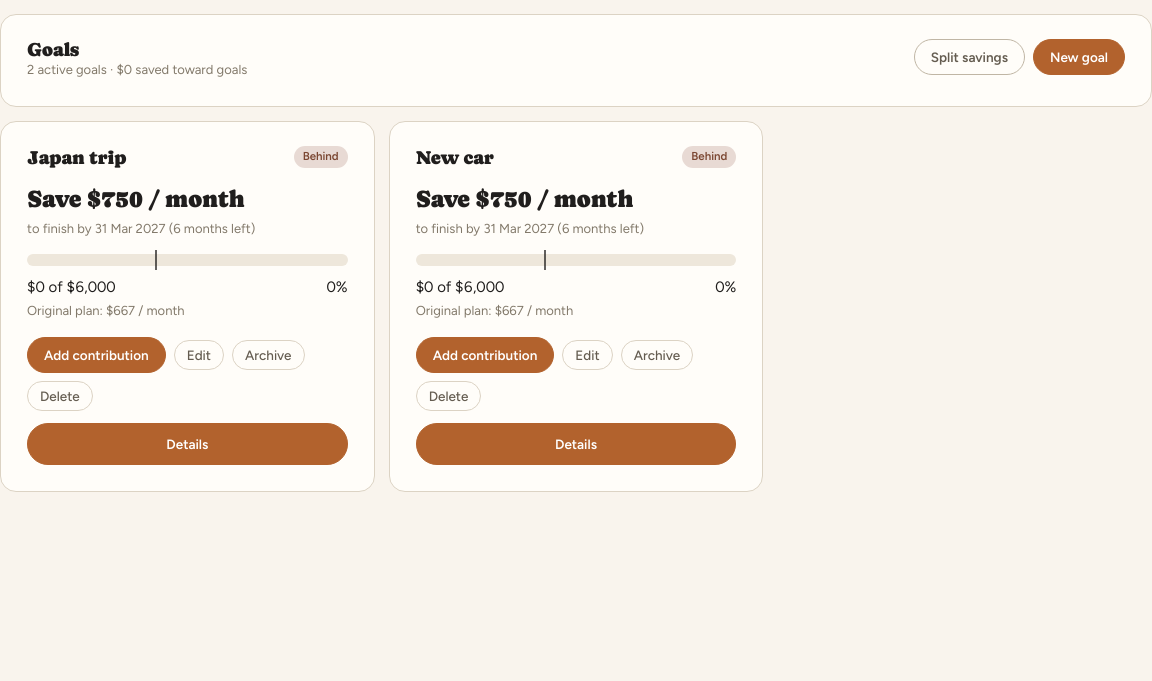
Test: Split savings › says when Goals took everything and no remainder row was written
Click the button "Split savings".
click(969, 57)  # box [914,39,1025,75]
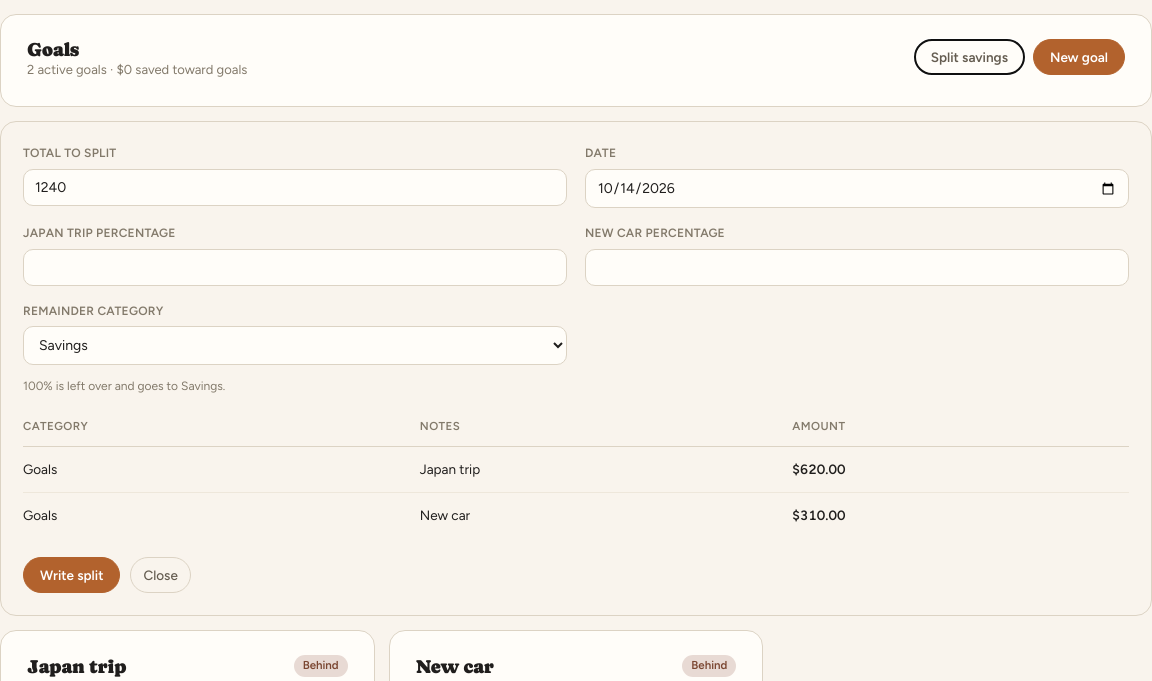
Type "60" into the number field labelled "Japan trip percentage".
click(295, 267); type("60")  # box [23,249,567,286]
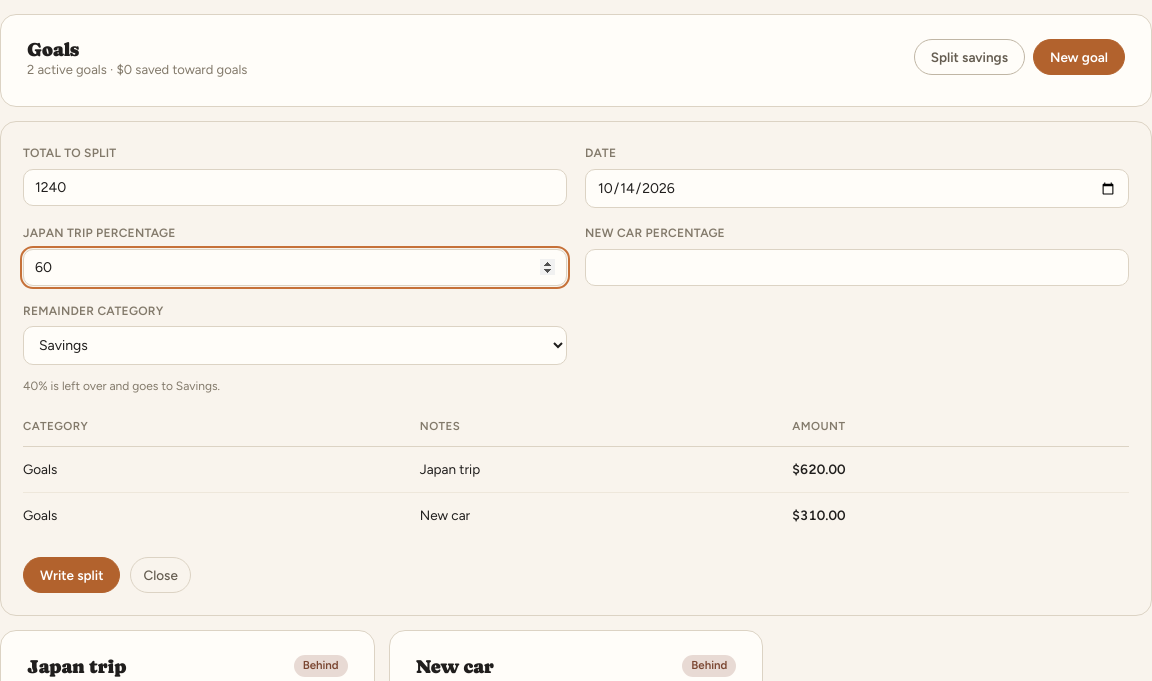
Type "40" into the number field labelled "New car percentage".
click(857, 267); type("40")  # box [585,249,1129,286]
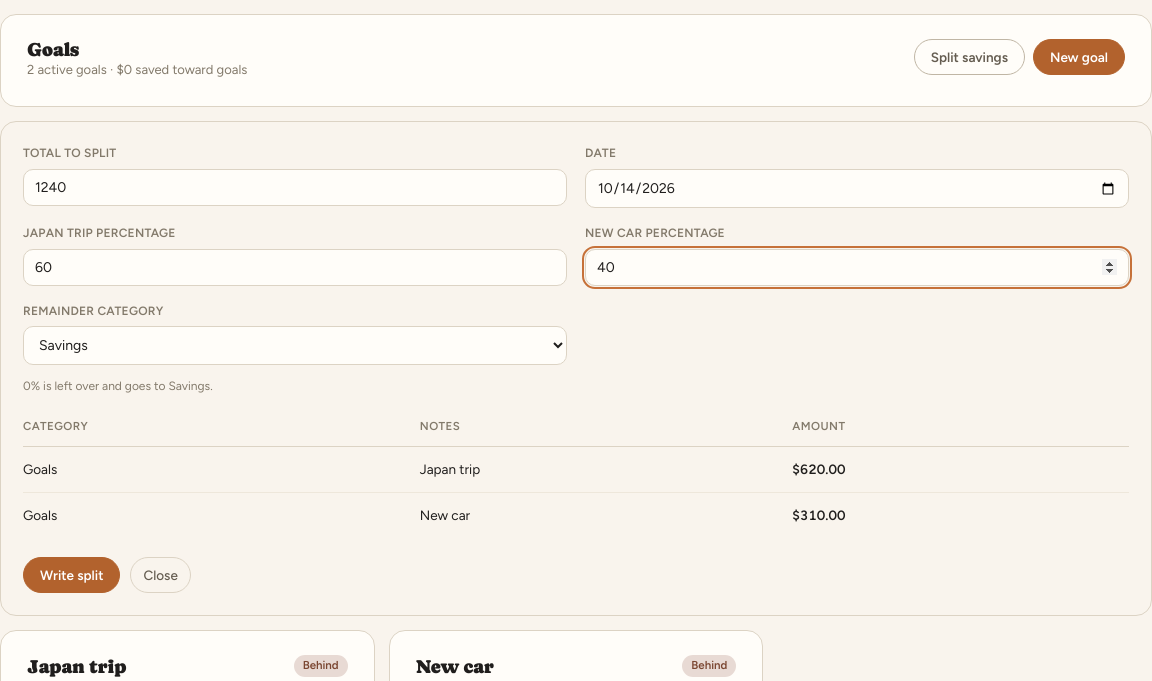
Check: the table named "Transactions to be written" is shown, box [23,418,1129,537]
Click the button "Write split".
click(72, 575)  # box [23,557,120,593]
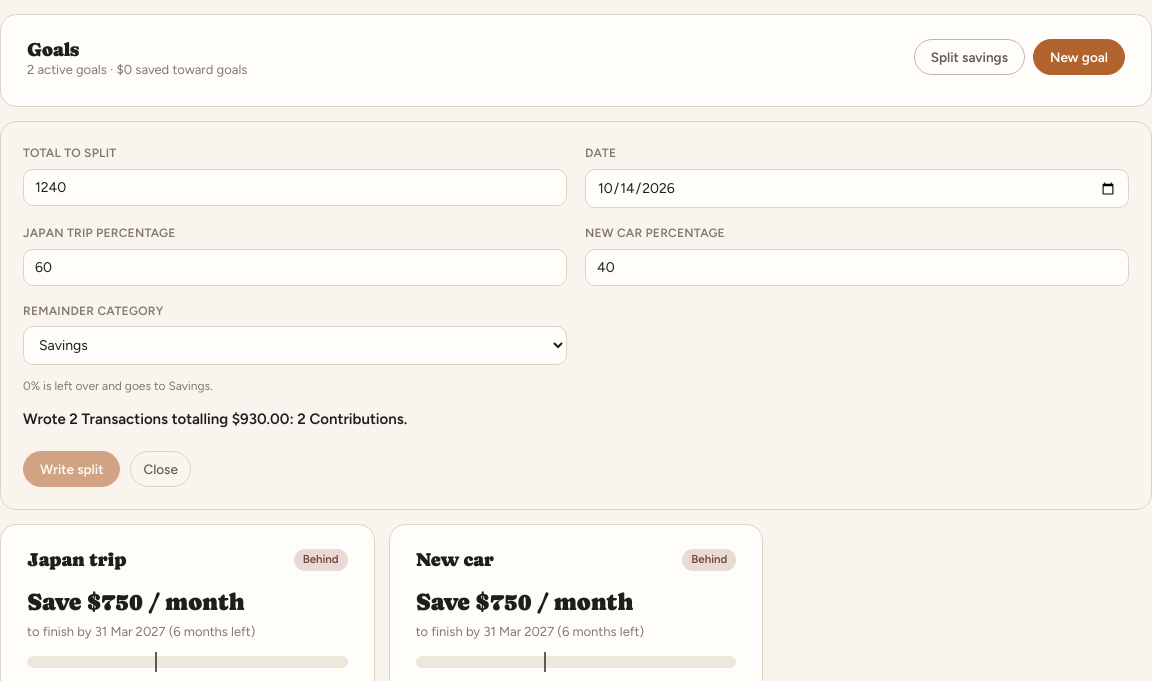
Check: the text "Wrote 2 Transactions totalling $930.00: 2 Contributions." is shown, box [23,410,407,428]
